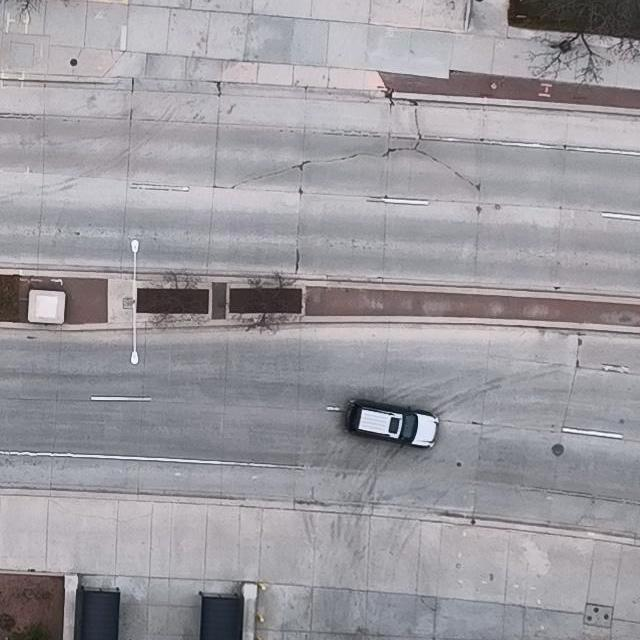car: (348, 400, 439, 449)
